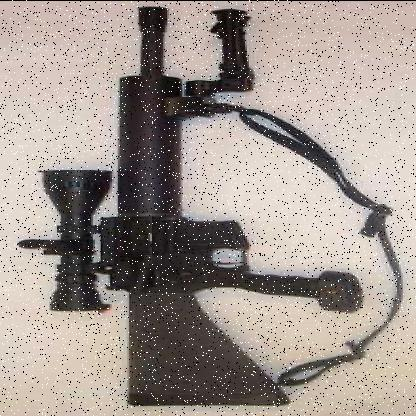rifle: (21, 3, 376, 410)
